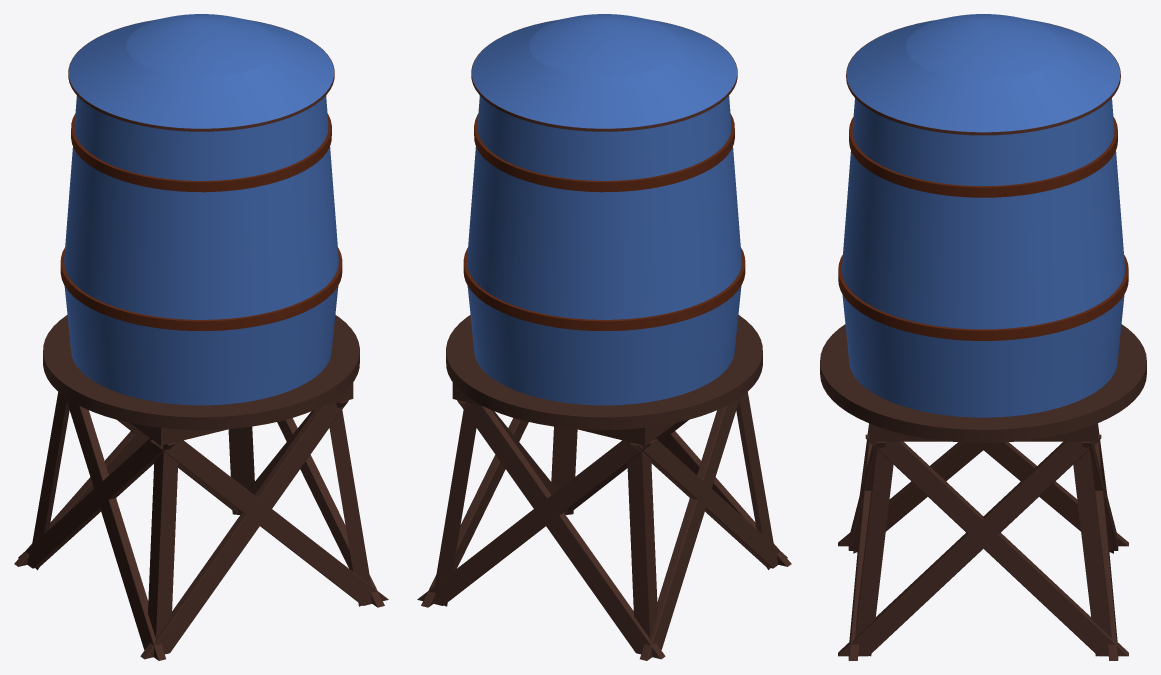
3 renders of one model, left to right at view 1: azimuth 30°, elevation 25°; view 2: azimuth 150°, elevation 25°; view 3: azimuth 270°, elevation 25°, orthographic. The views are drawn at different scales.
Visible parts, largest first — view 1: water_tower; view 2: water_tower; view 3: water_tower.
Boxes of the visible parts, x1,y1,x2,y2 form: water_tower: [14, 14, 388, 660]; water_tower: [417, 14, 791, 660]; water_tower: [820, 14, 1146, 660].
Bounding box in the file's own units: 6.15 × 12.04 × 6.15.
